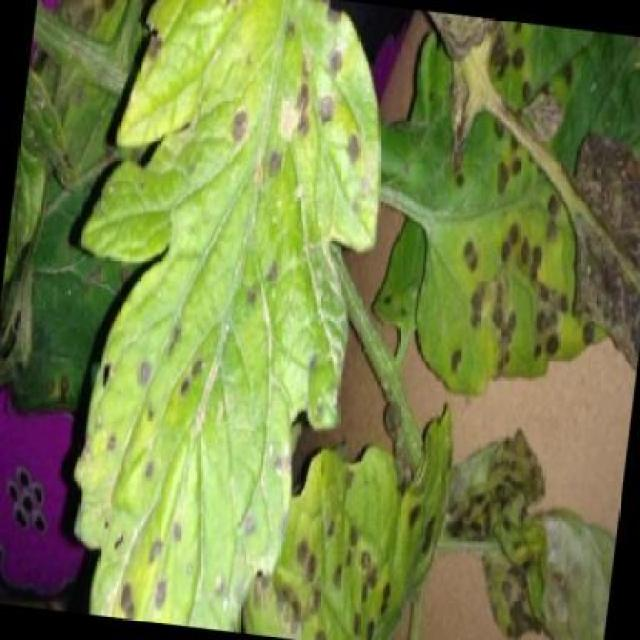Septoria leaf spot: (71, 0, 380, 638), (423, 19, 623, 398), (427, 387, 626, 640), (267, 427, 450, 640)
